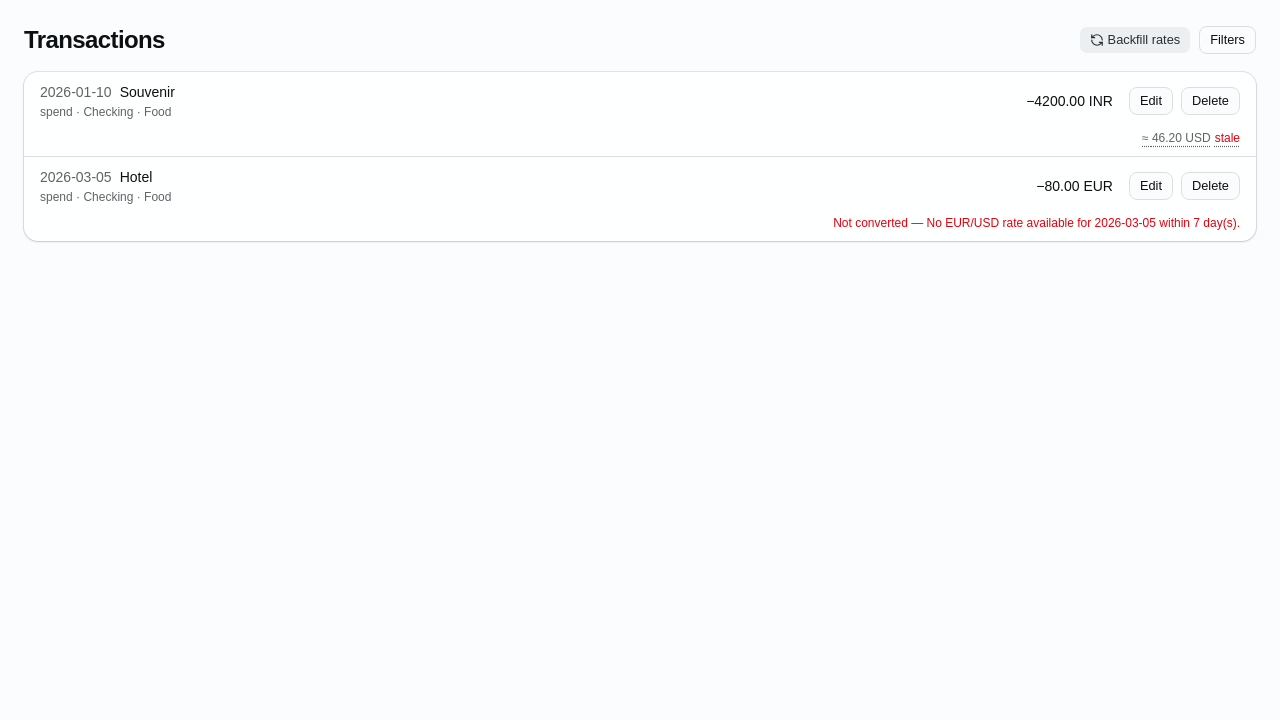
Test: TransactionsList › foreign-currency conversion (issue #145) › backfills rates over a currency multi-select and date range, then resolves rows in place
This screenshot has width=1280, height=720.
Expected: the text "Souvenir" is shown, [120,82,175,102]
Expected: the text "Hotel" is shown, [120,167,152,187]
What coordinates should you click on to do the following:
click the button "Backfill rates"
I would click on:
 (1135, 40)
Its box is [1079,26,1191,54].
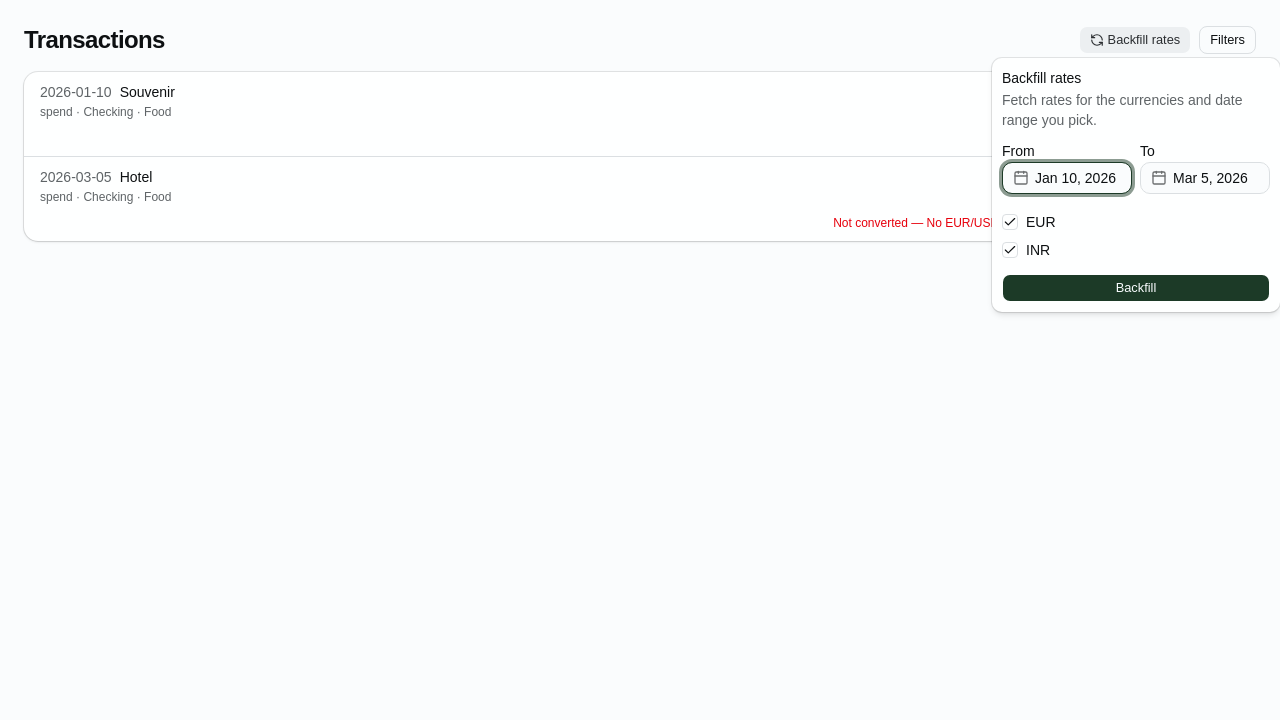
Result: the 2nd checkbox named "INR" is checked at [1002,242,1018,258]
Result: the 1st checkbox named "EUR" is checked at [1002,214,1018,230]
Result: the button "Jan 10, 2026" is shown at [1002,162,1132,194]
What coordinates should you click on to do the following:
click the button "Backfill"
I would click on:
 (1136, 288)
Its box is [1002,274,1270,302].
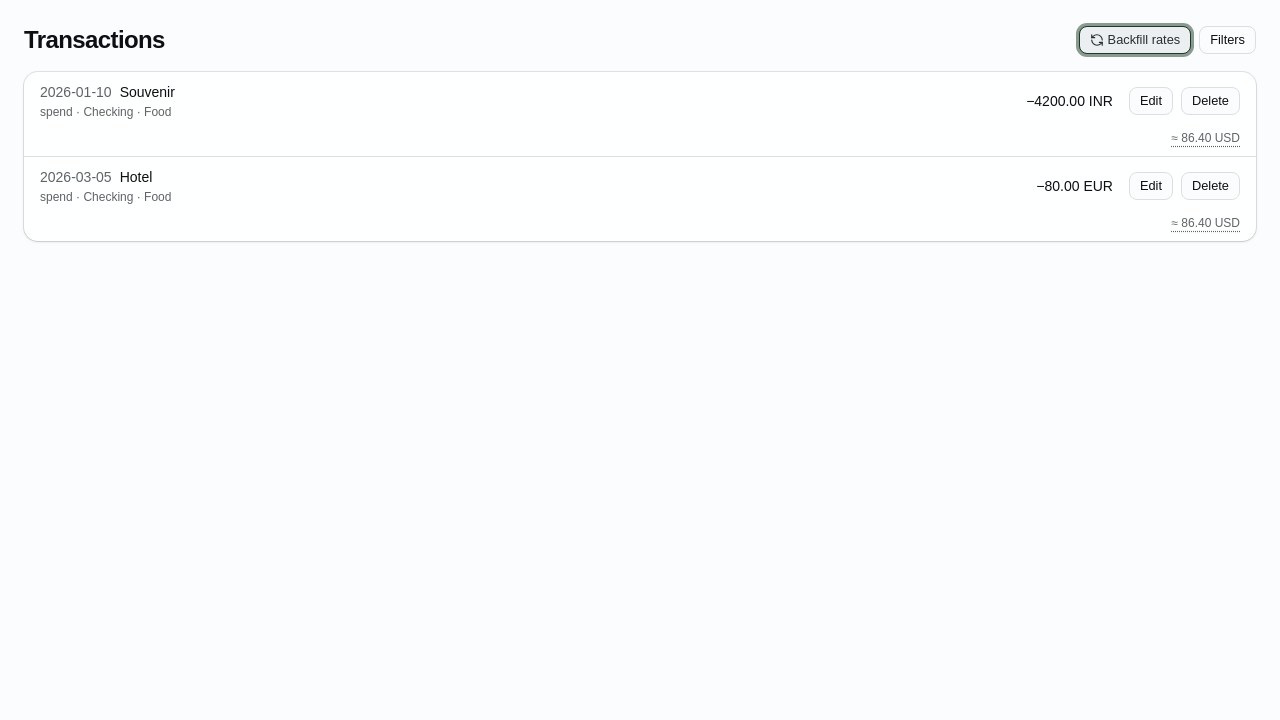
Result: the button "stale" is gone
Result: the text "Not converted" is gone
